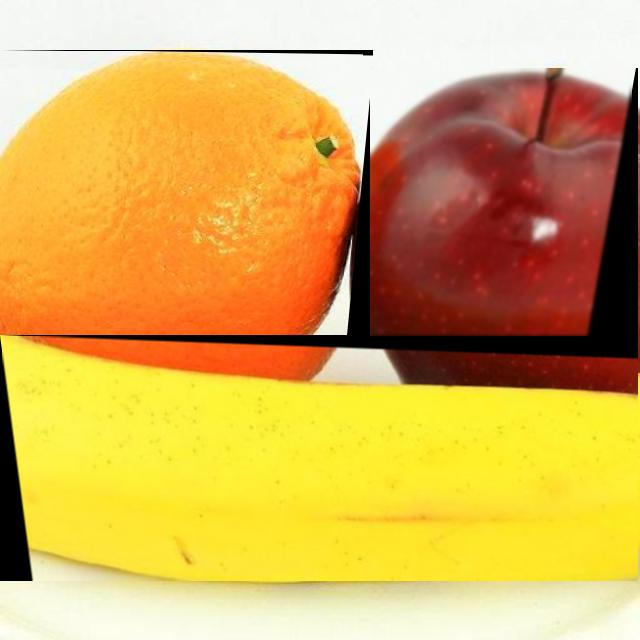Apple: (371, 68, 632, 368)
Banana: (2, 336, 638, 580)
Orange: (0, 52, 363, 368)
